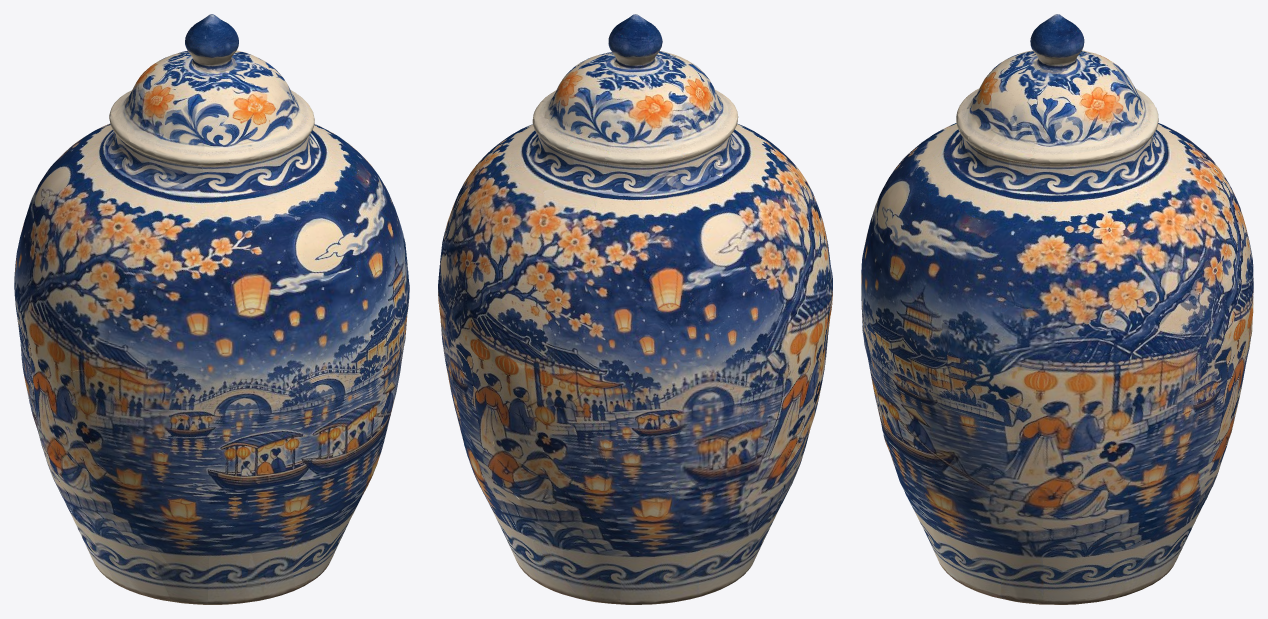
The model's file is storytelling-jar.glb.
3 views of the same model, side by side, from view 1: azimuth 30°, elevation 25°; view 2: azimuth 150°, elevation 25°; view 3: azimuth 270°, elevation 25° (orthographic).
Size of the model in its own units: 1.24 by 1.9 by 1.24.
Materials: 1 (1 with a texture image).
